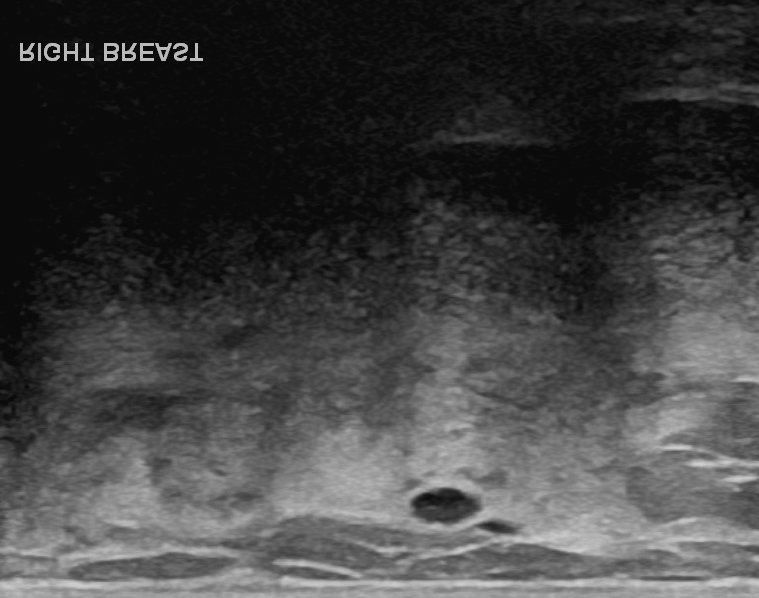Benign: (407, 479, 489, 530)
